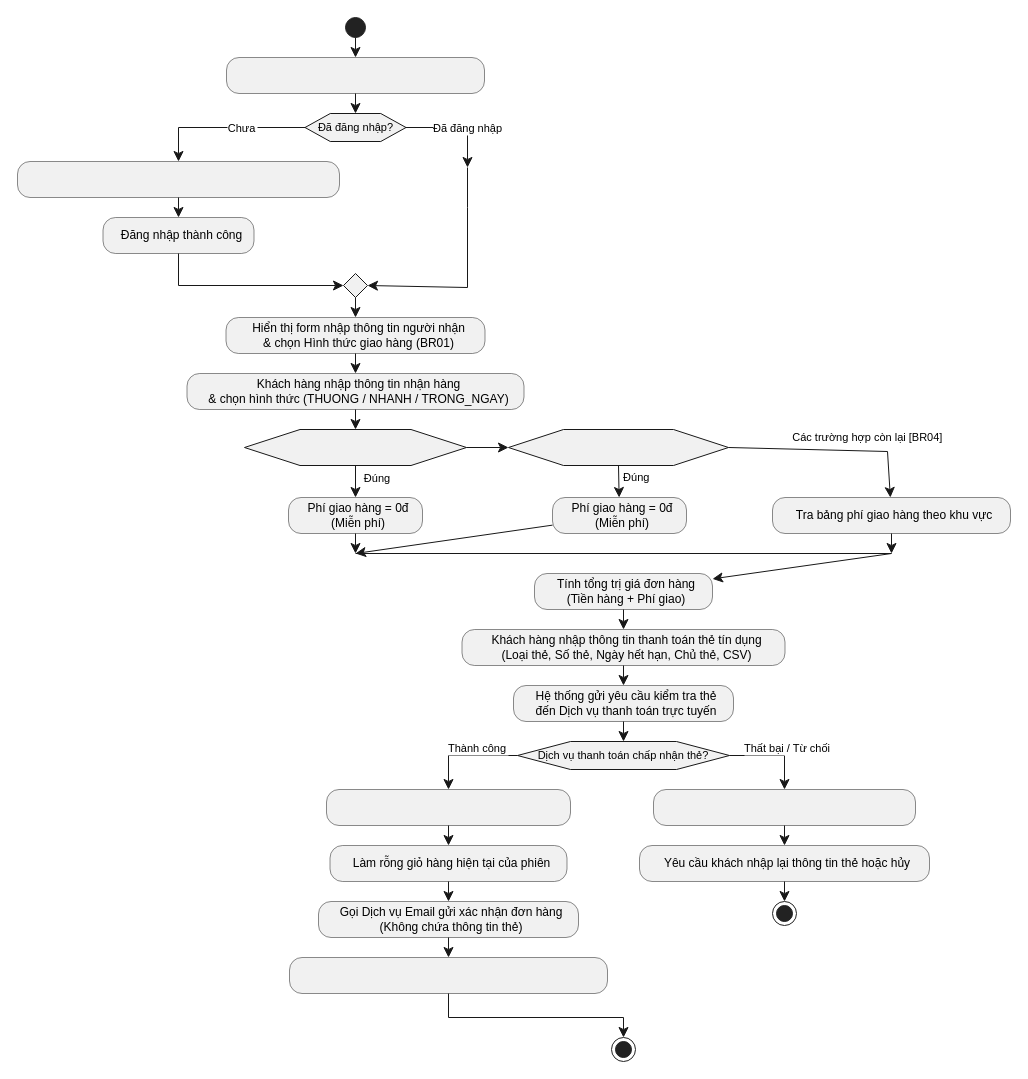
Image size: 1028x1079. Some labels were removed from this diagram. The shapes that lost their labels are listed below. From the top down, each one's centre as x and y in pixels, then its label:
point 355,75: Khách hàng chọn "Tính tiền" từ giỏ hàng
point 178,179: Chuyển hướng sang màn hình Đăng nhập / Đăng ký
point 355,447: Hình thức = NHANH && Tiền hàng >= 1.000.000đ? [BR02]
point 618,447: Hình thức = TRONG_NGAY && Tiền hàng >= 5.000.000đ? [BR03]
point 448,807: Ghi nhận đơn hàng & chi tiết đơn hàng (Lưu vào CSDL trong 1 Transaction)
point 784,807: Hiển thị thông báo lỗi thanh toán thẻ; ("Thẻ không hợp lệ hoặc không đủ số dư")
point 448,975: Hiển thị màn hình thông báo Đặt hàng thành công & cung cấp Mã đơn hàng
